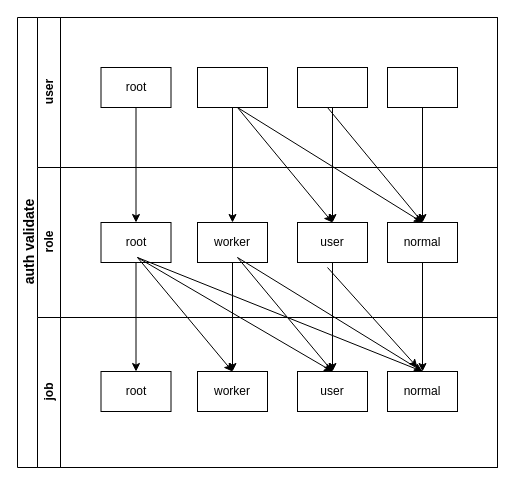
The diagram is 515 pixels wide and 485 high, and some of its shapes have lost their labels. Here are the shapes that lost their labels. From the top down, the centre of each, then its label:
At point (232, 87): "工作人员".
At point (332, 87): "正常用户".
At point (422, 87): "未登录".
